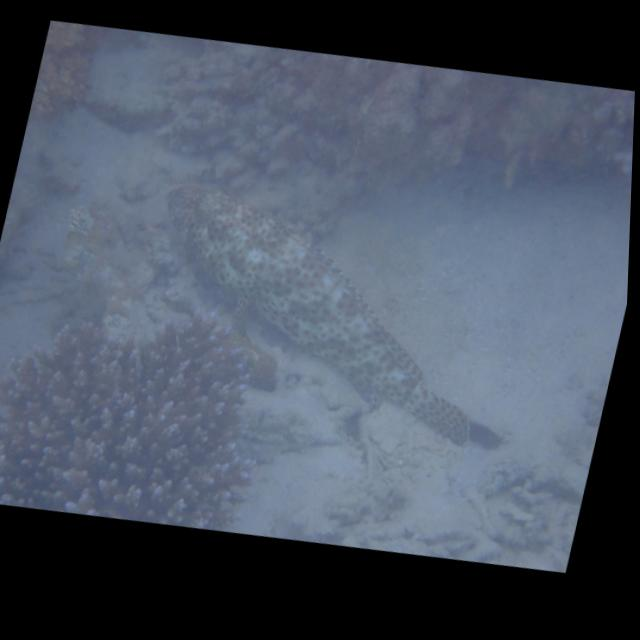Groupers: (114, 149, 556, 486)
